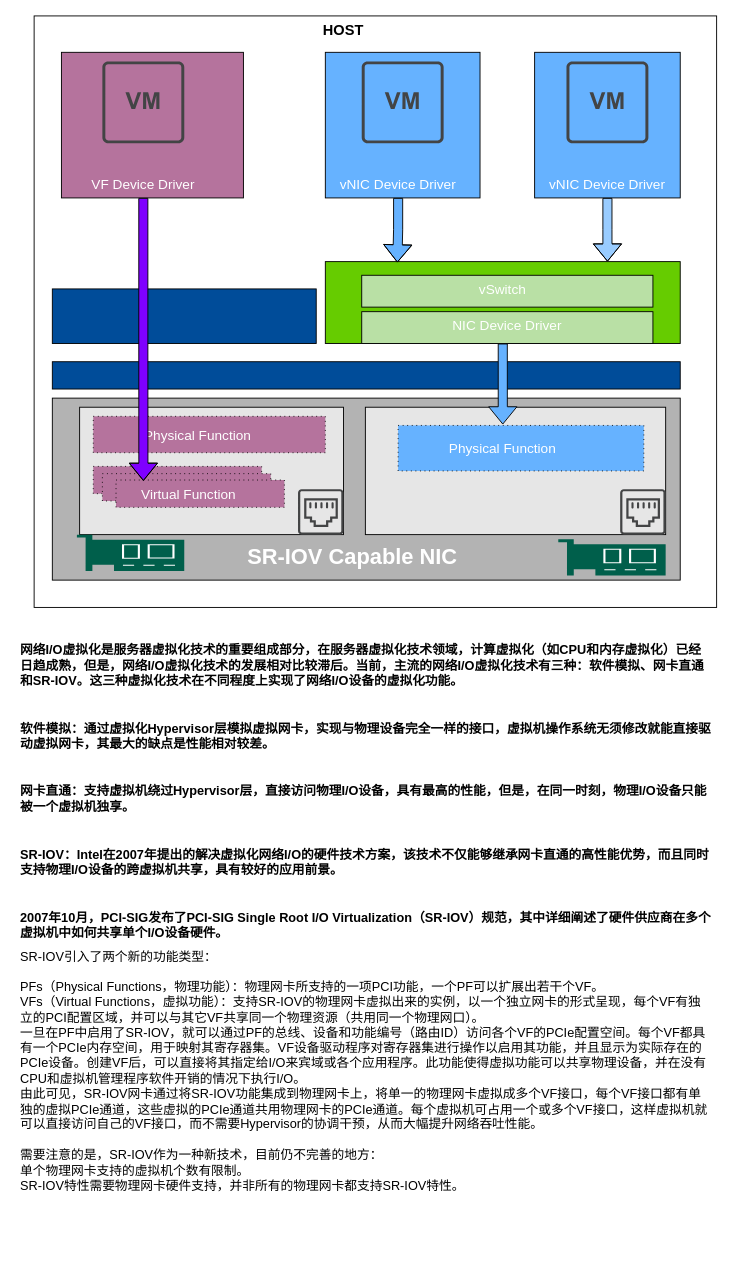
This 733x1279 diagram has some shape labels left out. The shapes that lost their labels are listed below. From the top down, each one's box as (x1, y1, x2, y2) in pixels, then its label:
(51, 288, 316, 344): Intel VT-d
(51, 361, 680, 389): PCI Express
